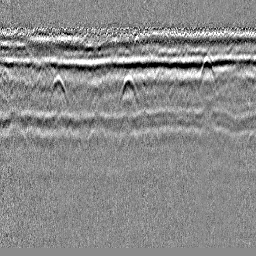cavity: (118, 74, 139, 104)
